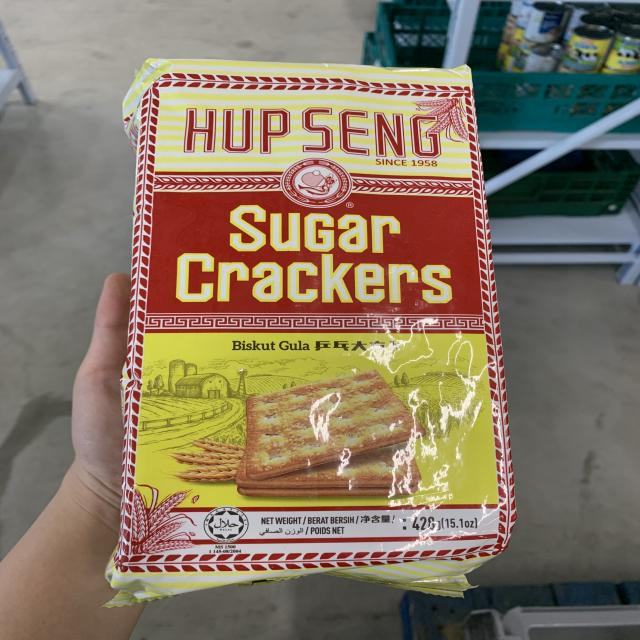object_name: (136, 66, 501, 579)
